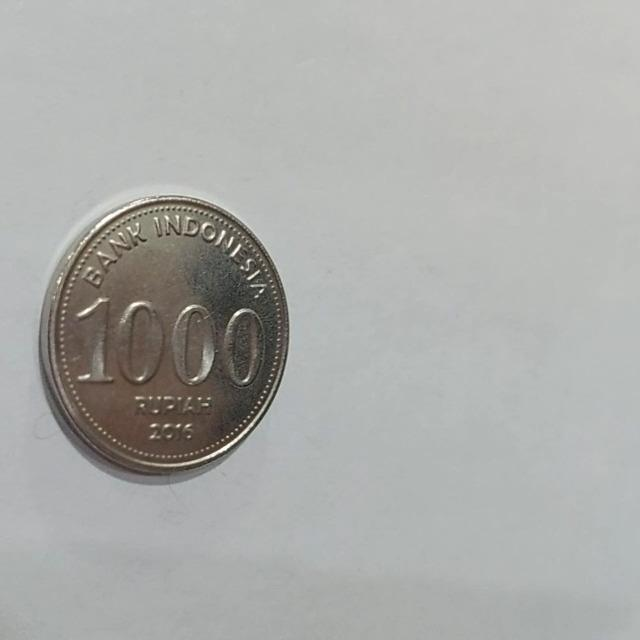Rp100: (36, 191, 291, 482)
